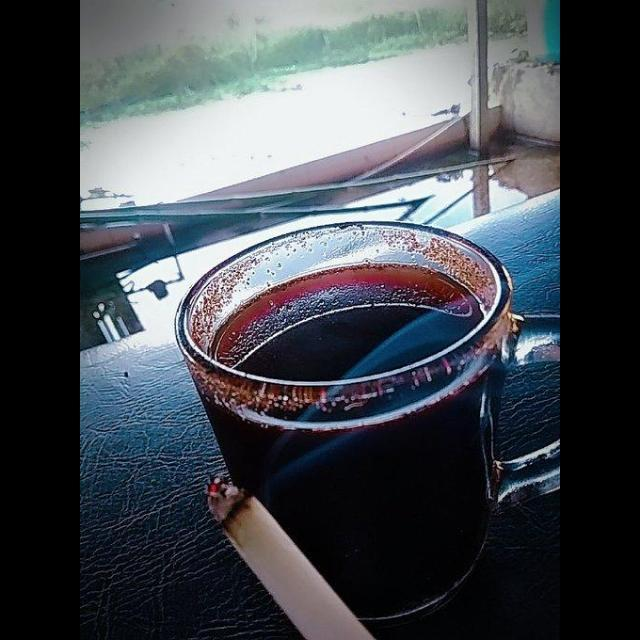rokok: (201, 464, 377, 640)
